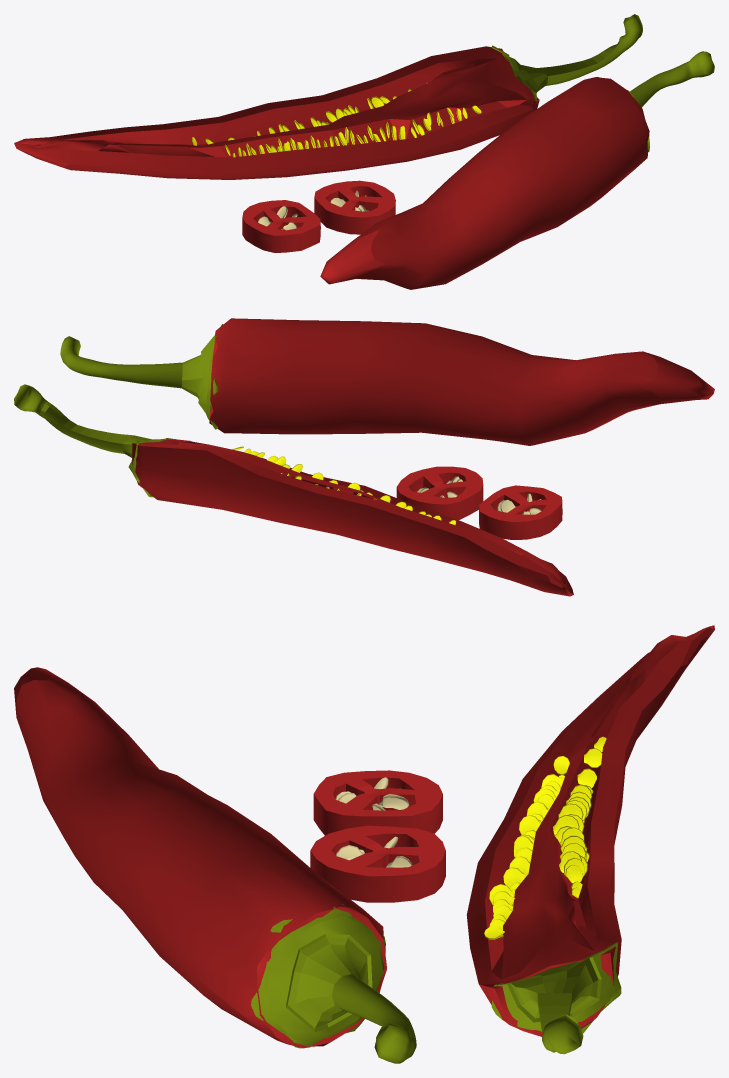
Rendered from chilli.obj.
The picture shows the model from 3 angles, top to bottom: view 1: azimuth 30°, elevation 25°; view 2: azimuth 150°, elevation 25°; view 3: azimuth 270°, elevation 25°; orthographic projection. The views are drawn at different scales.
Parts seen in each view (by area): view 1: chili_half_body; view 2: chili_half_body; view 3: chili_half_body.
Boxes of the visible parts, x1,y1,x2,y2 form: chili_half_body: (14, 14, 714, 289); chili_half_body: (14, 318, 714, 596); chili_half_body: (14, 625, 714, 1063).
Bounding box in the file's own units: 3 × 0.5 × 2.
